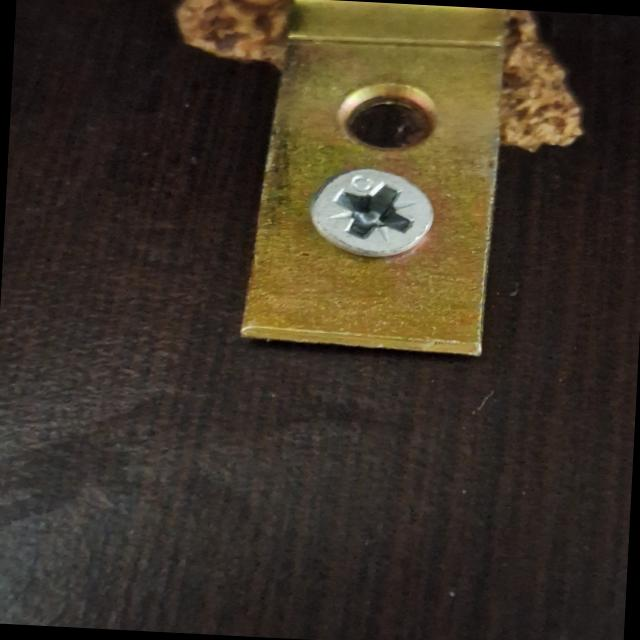Phillips: (313, 169, 450, 263)
